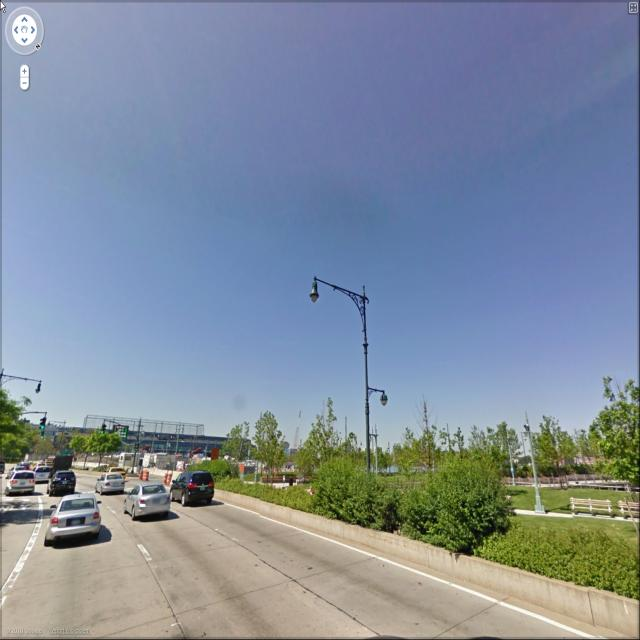b_2: (105, 420, 265, 469)
